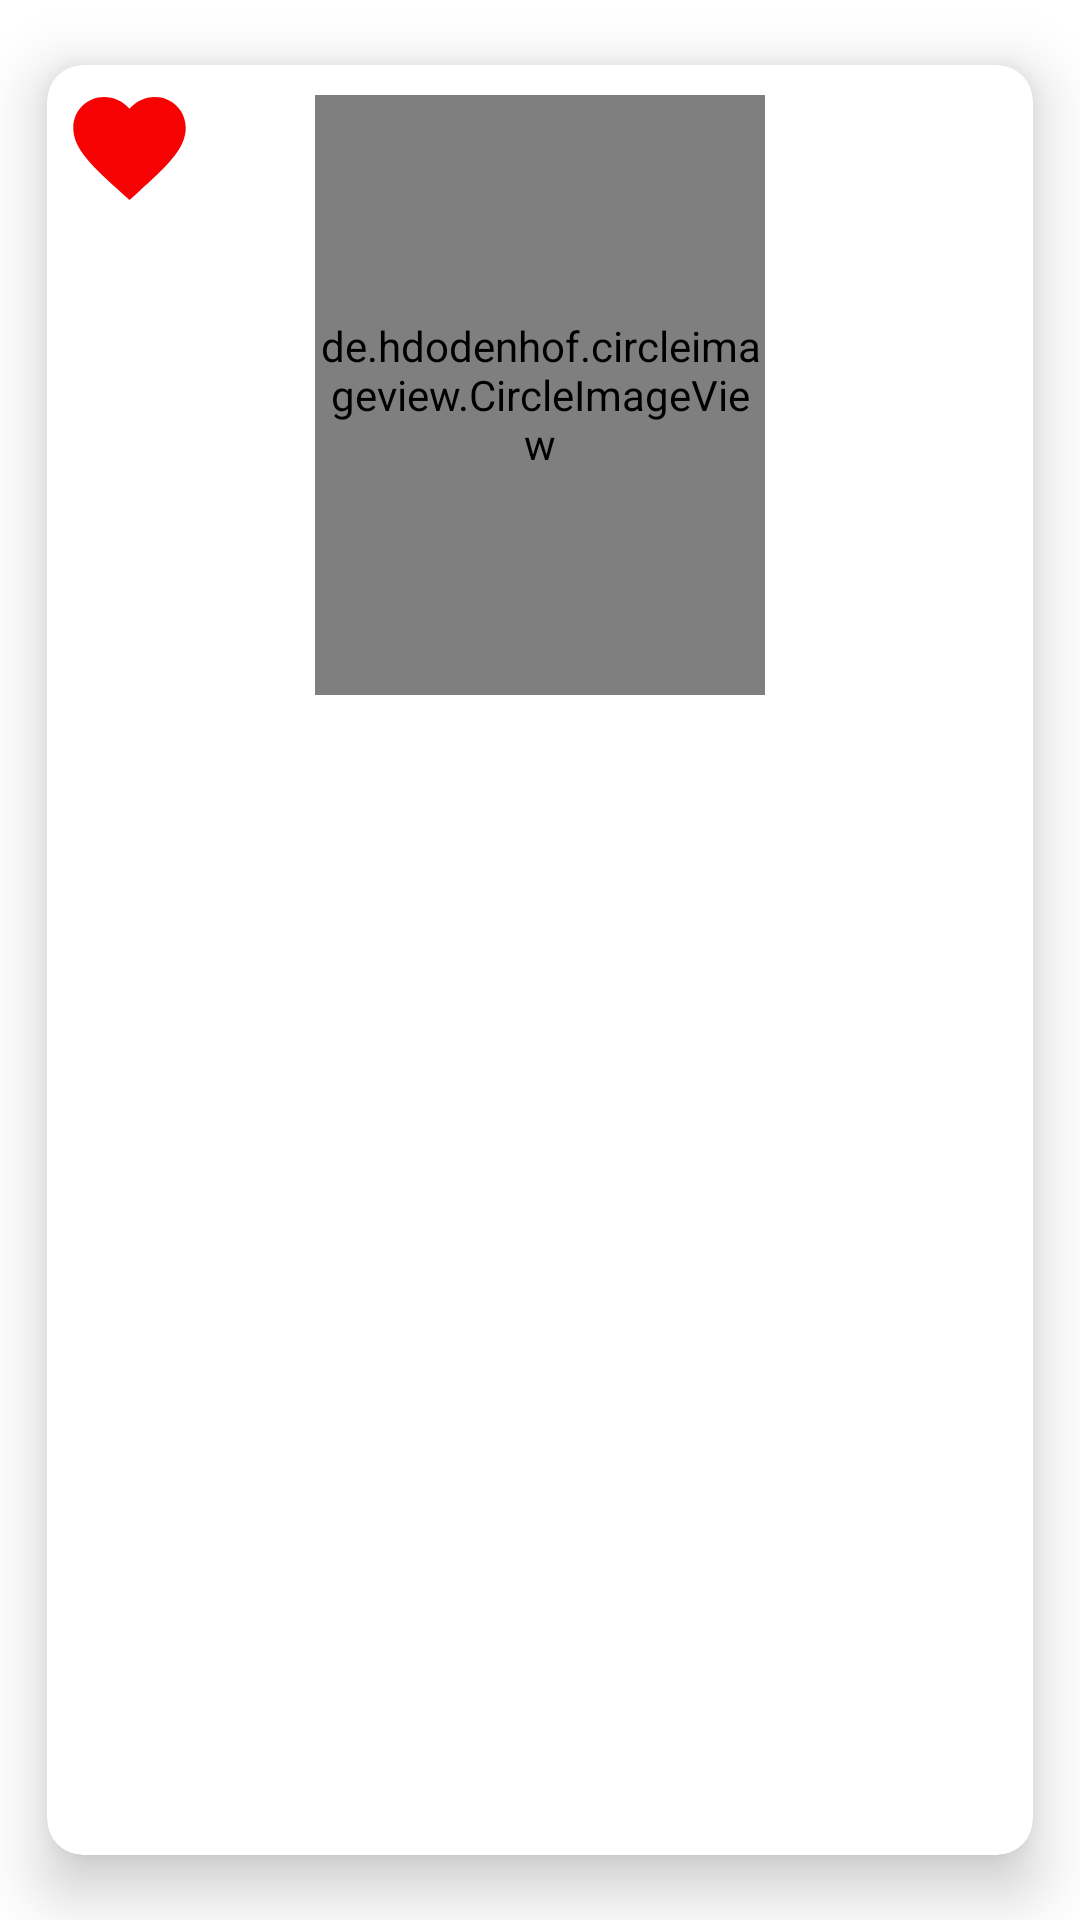

Where to tap for icons on this 1080×1920 app screen, as point (x, y):
fav: point (129, 148)
